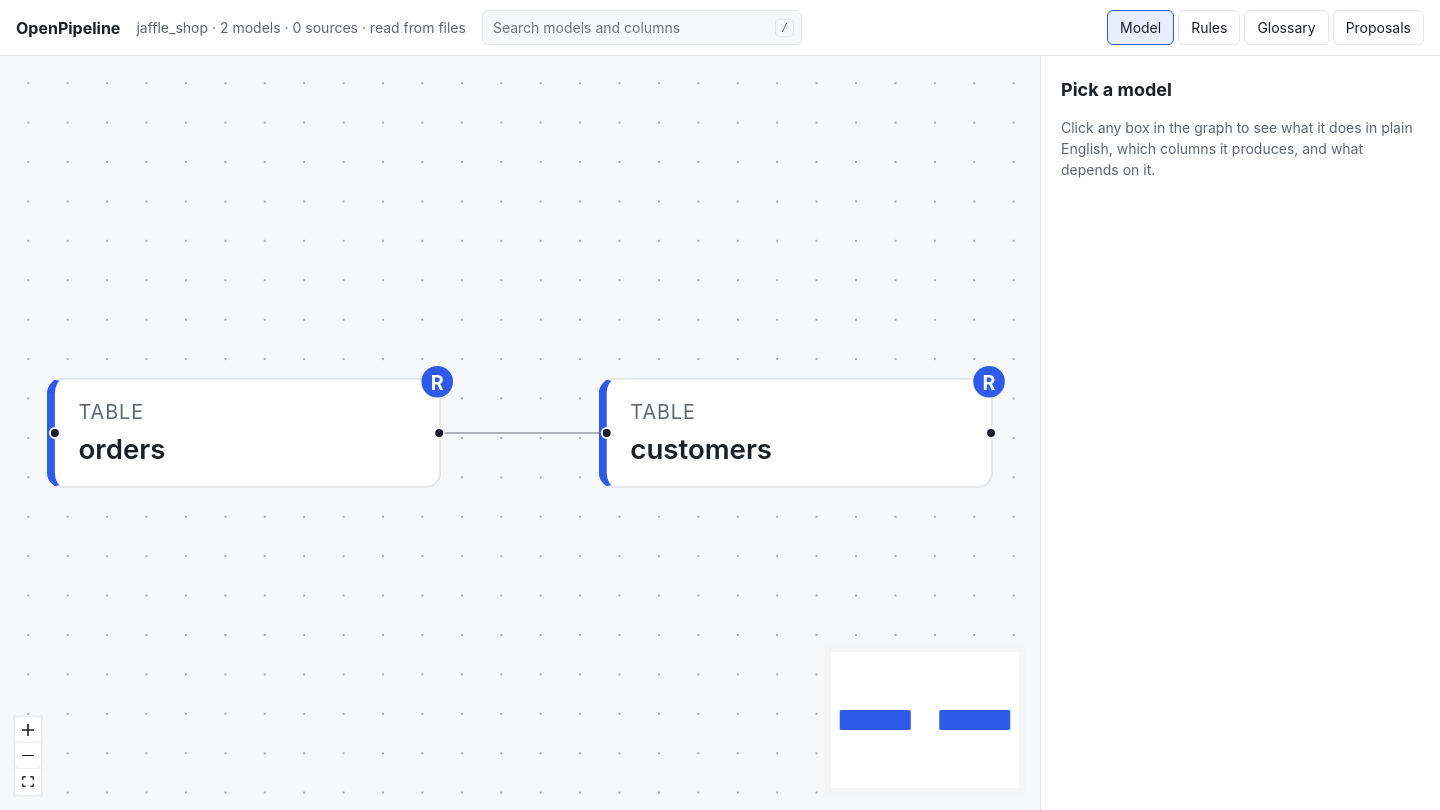
it: Rules tab › lists rules with owner, description, and linked models
Click the button "Rules" at (1209,28), box [1178,10,1240,45]
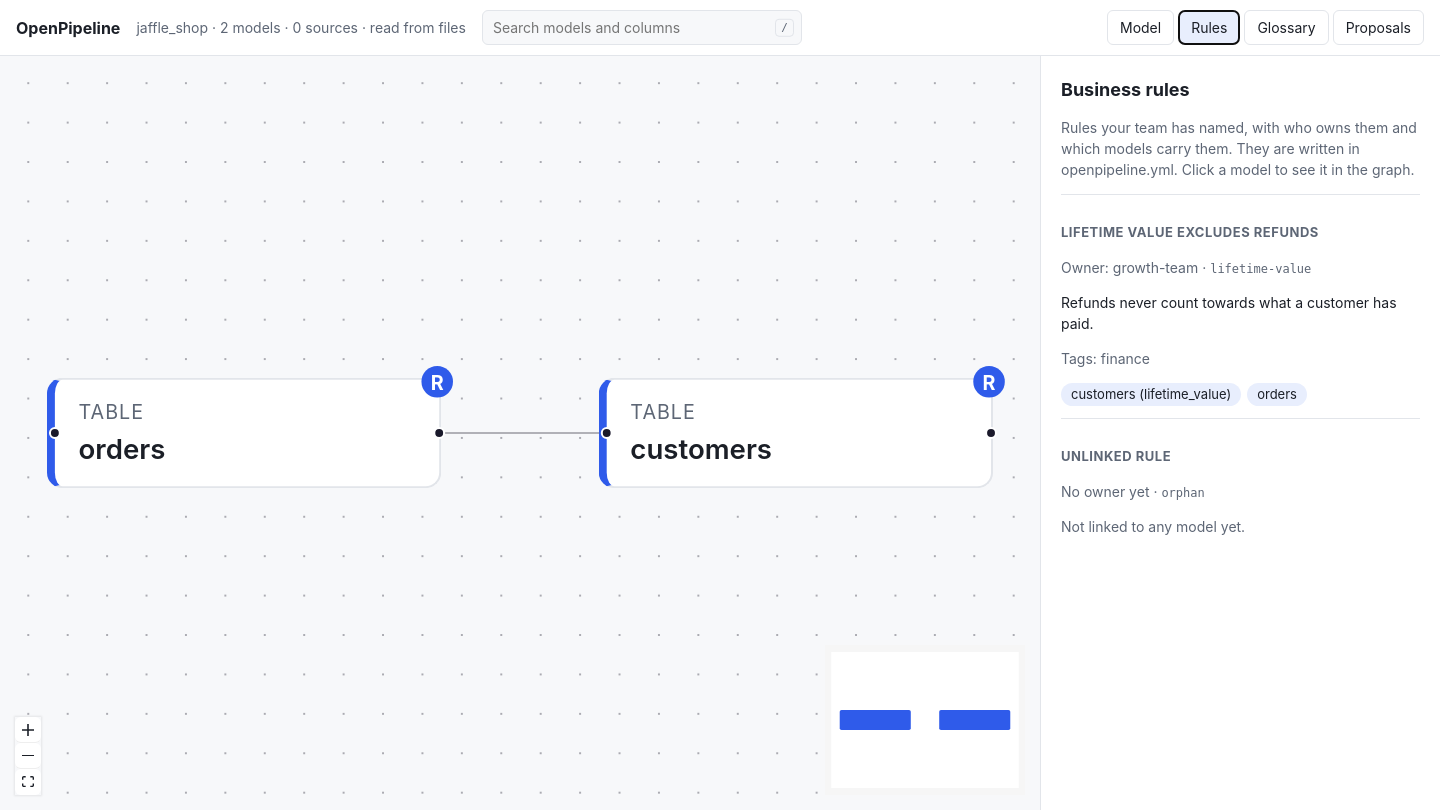
Now the text "Lifetime value excludes refunds" is shown, box [1061,224,1319,240]
Now the text "Owner: growth-team · lifetime-value" is shown, box [1061,258,1311,276]
Now the text "Refunds never count towards what a customer has paid." is shown, box [1061,292,1420,334]
